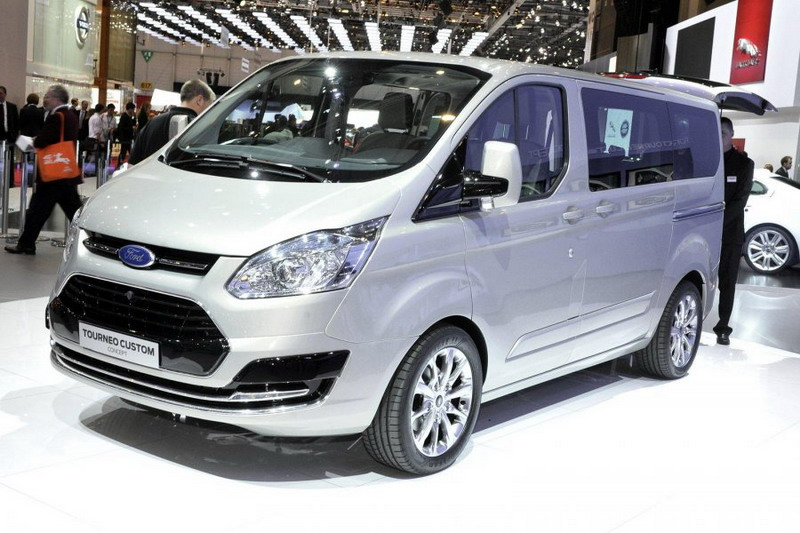van: (44, 47, 725, 472)
